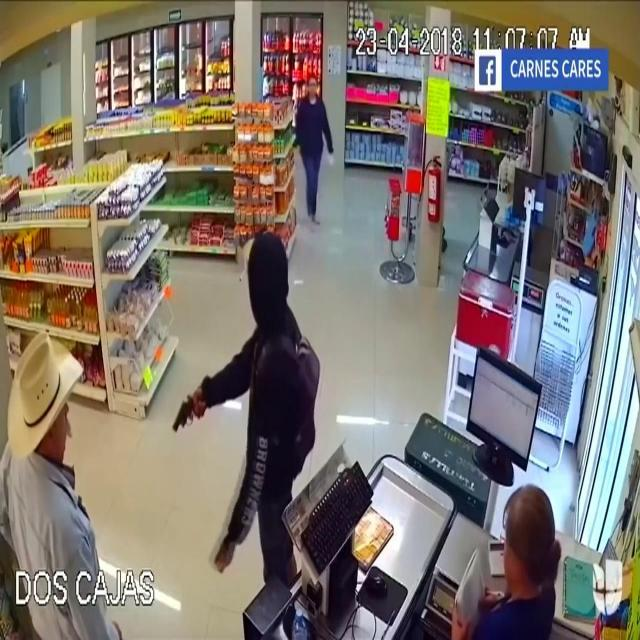weapon: (166, 376, 198, 458)
